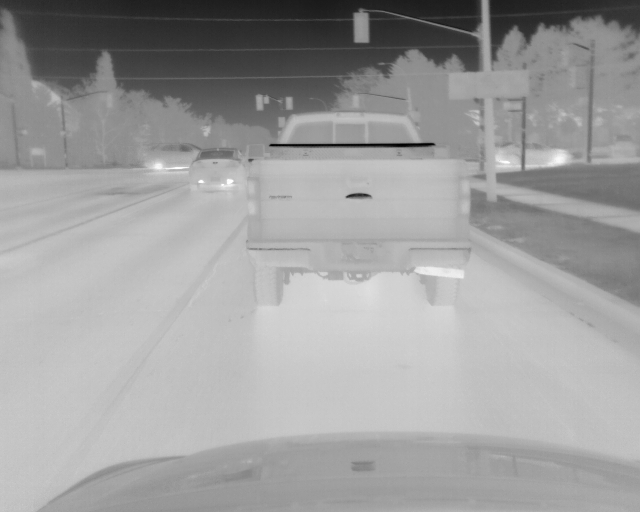car: (244, 113, 470, 307), (188, 149, 247, 197), (496, 140, 573, 170), (144, 141, 202, 171)
